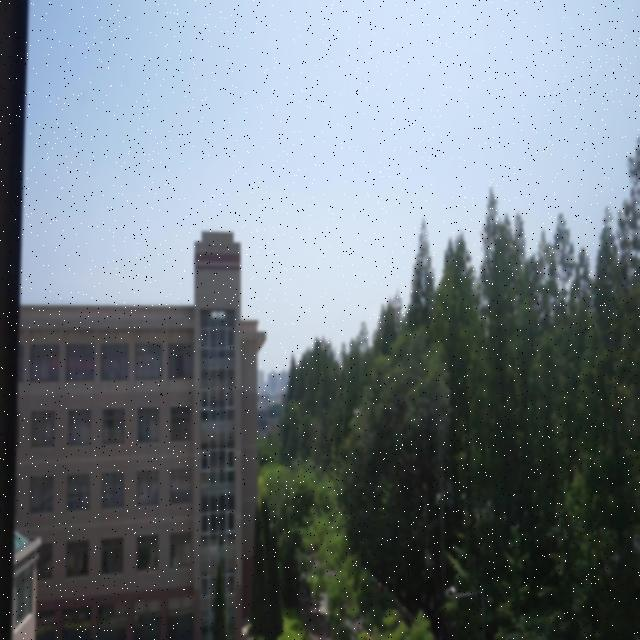UAV: (353, 410, 361, 414)
